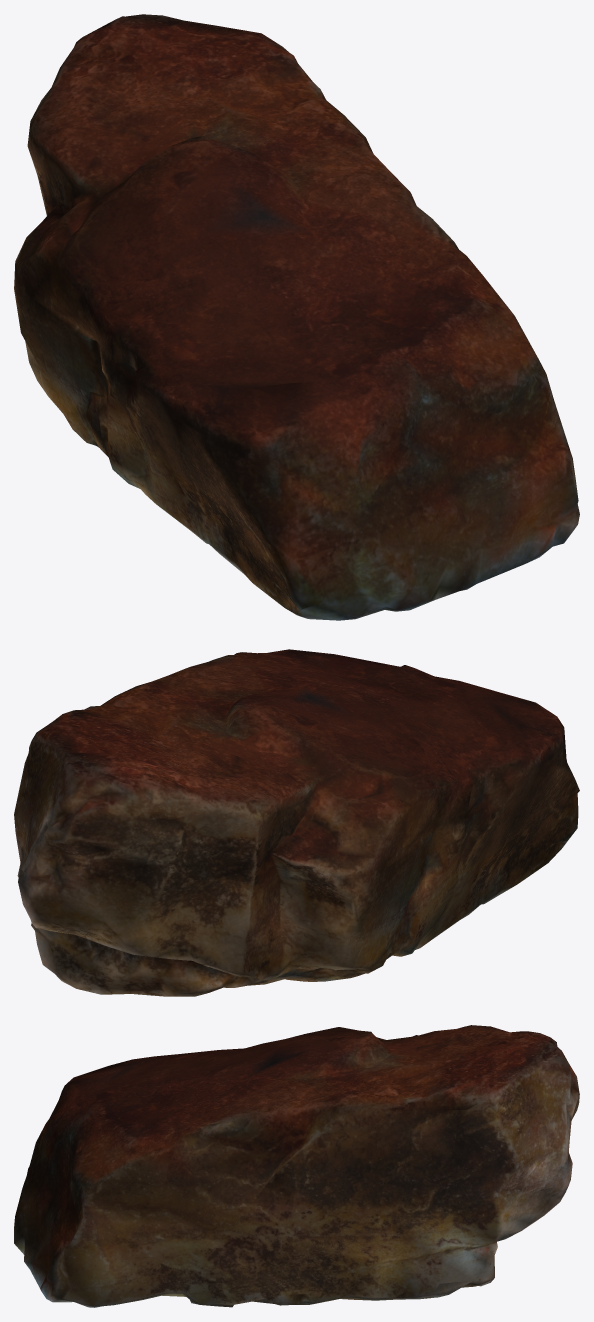
The model's file is rock_07.glb.
3 views of the same model, one above another, from view 1: azimuth 30°, elevation 25°; view 2: azimuth 150°, elevation 25°; view 3: azimuth 270°, elevation 25° (orthographic). The views are drawn at different scales.
Parts seen in each view (by area): view 1: rock_07; view 2: rock_07; view 3: rock_07.
Part boxes in pixels (left/top/right/bottom): rock_07: left=14, top=14, right=579, bottom=620; rock_07: left=14, top=649, right=579, bottom=996; rock_07: left=14, top=1025, right=579, bottom=1307.
Size of the model in its own units: 0.1681 by 0.1437 by 0.3199.
Materials: 1 (1 with a texture image).
